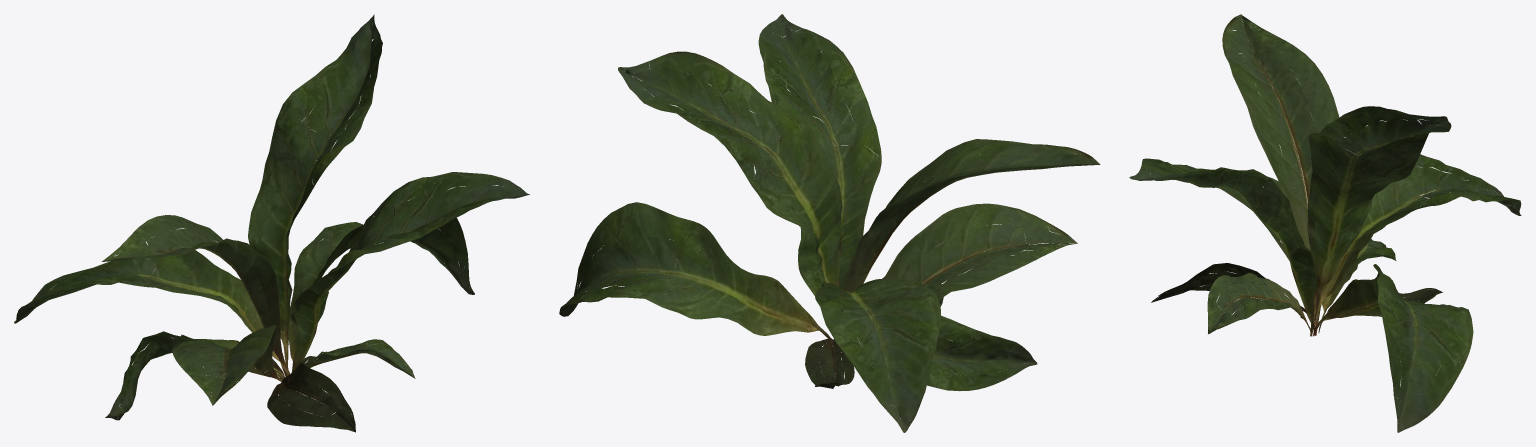
File: anthurium_botany_01_d.gltf.lod.glb
The picture shows the model from 3 angles, left to right: view 1: azimuth 30°, elevation 25°; view 2: azimuth 150°, elevation 25°; view 3: azimuth 270°, elevation 25°; orthographic projection.
Visible parts, largest first — view 1: anthurium_botany_01_b; view 2: anthurium_botany_01_b; view 3: anthurium_botany_01_b.
Boxes of the visible parts, left/top/right/bottom form: anthurium_botany_01_b: left=14, top=14, right=529, bottom=432; anthurium_botany_01_b: left=559, top=14, right=1100, bottom=432; anthurium_botany_01_b: left=1129, top=14, right=1521, bottom=432.
Bounding box in the file's own units: 0.7569 × 0.4718 × 0.5718.
Materials: 1 (1 with a texture image).
